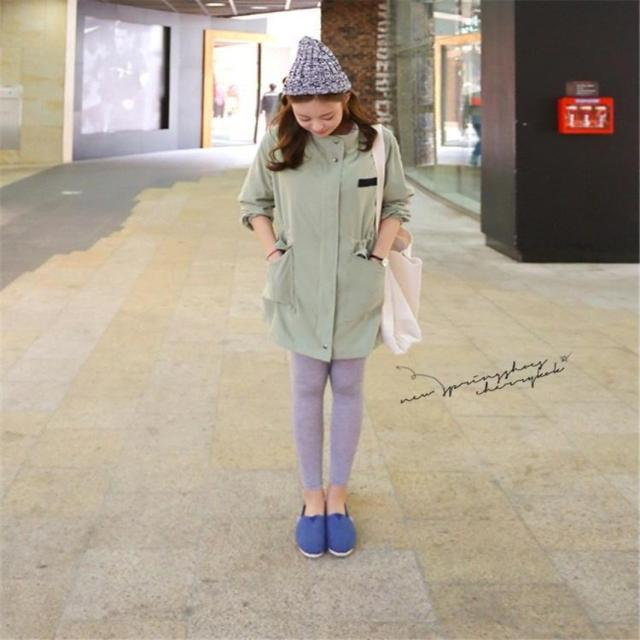long sleeve top: (241, 122, 409, 361)
trousers: (289, 280, 368, 488)
